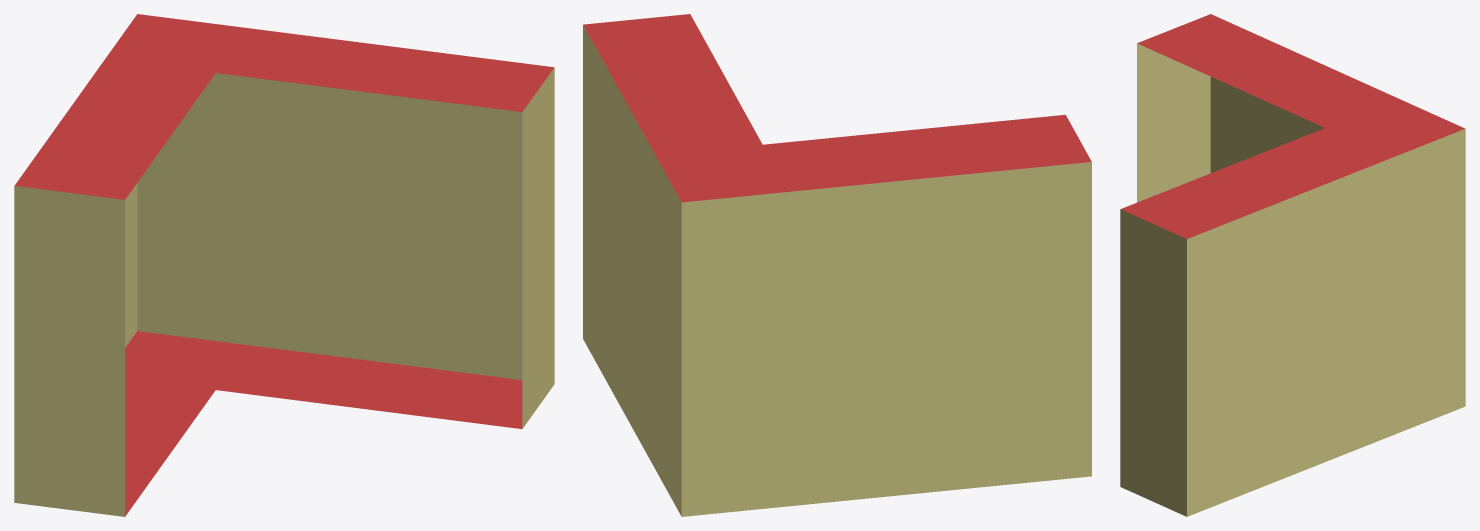
3 renders of one model, left to right at view 1: azimuth 30°, elevation 25°; view 2: azimuth 150°, elevation 25°; view 3: azimuth 270°, elevation 25°, orthographic. The views are drawn at different scales.
Parts seen in each view (by area): view 1: group_4, group_3, group_5; view 2: group_4, group_3; view 3: group_4, group_3.
Part boxes in pixels (box(x1,y1,x2,y2)): group_4: box(14, 67, 554, 516); group_3: box(14, 14, 553, 199); group_5: box(125, 331, 522, 516); group_4: box(583, 25, 1091, 516); group_3: box(583, 14, 1091, 202); group_4: box(1120, 43, 1465, 516); group_3: box(1121, 14, 1464, 238).
Bounding box in the file's own units: 15.15 × 9.81 × 8.72.
